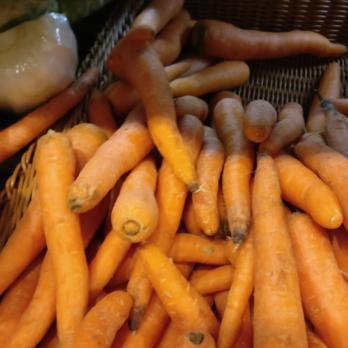Carrot: (37, 127, 348, 345), (104, 5, 180, 131), (188, 17, 348, 60), (170, 62, 253, 96)
